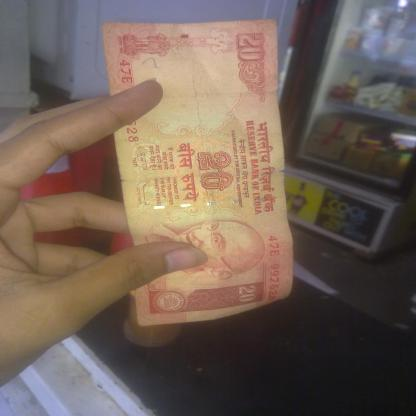Old20Front: (103, 19, 293, 327)
